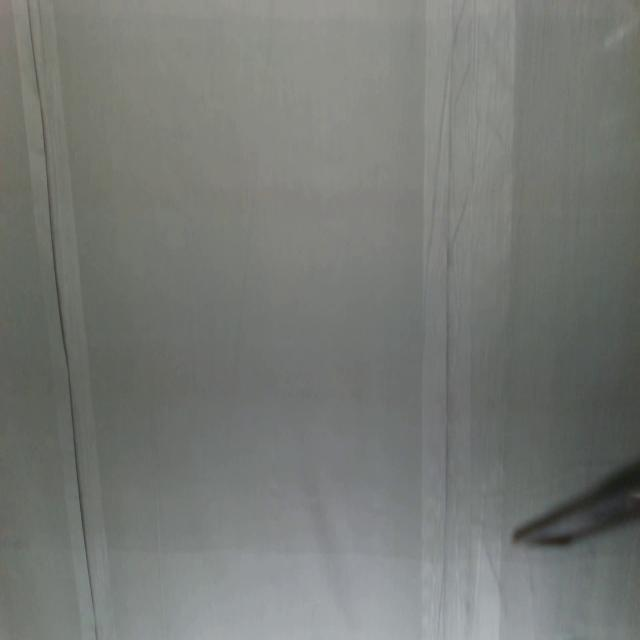crease: (16, 0, 107, 640), (421, 0, 478, 638)
